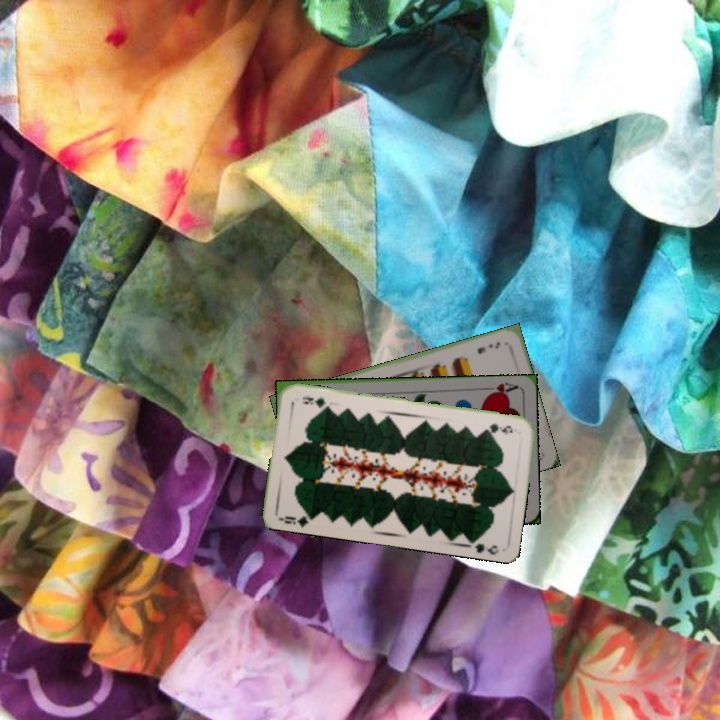E7: (473, 338, 503, 356)
G9: (276, 509, 317, 529), (481, 419, 515, 436)
HA: (480, 379, 520, 399)
